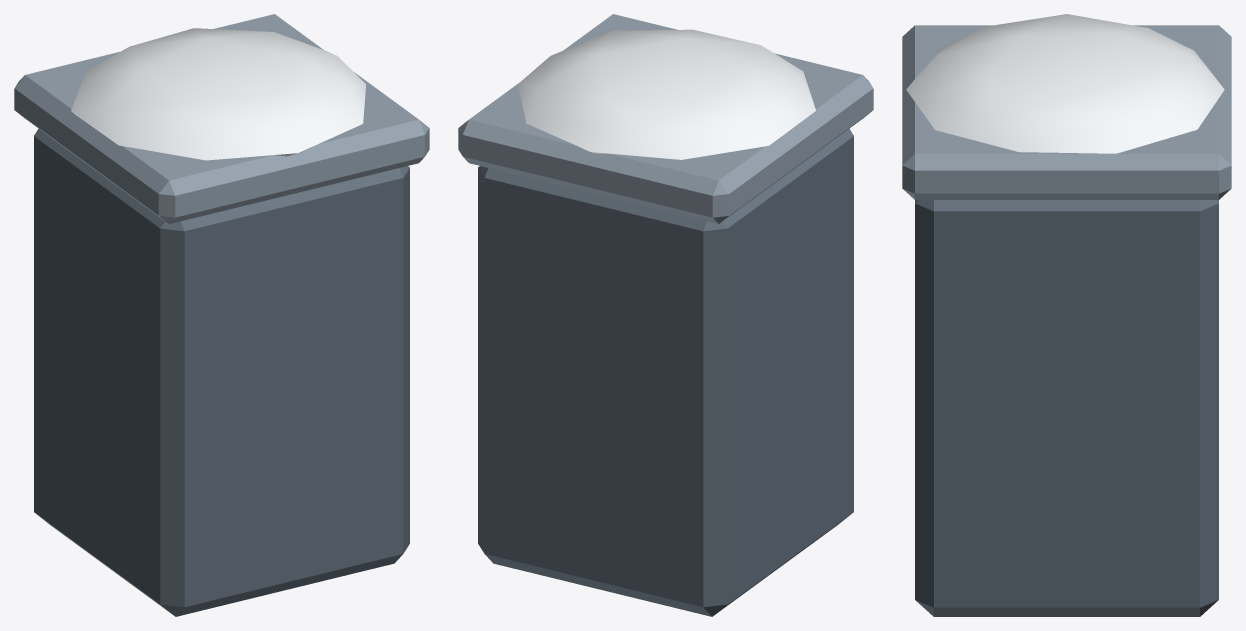
File: WallCorner_Ridge.fbx
The picture shows the model from 3 angles, left to right: view 1: azimuth 30°, elevation 25°; view 2: azimuth 150°, elevation 25°; view 3: azimuth 270°, elevation 25°; orthographic projection. The views are drawn at different scales.
Visible parts, largest first — view 1: WallCorner_Ridge; view 2: WallCorner_Ridge; view 3: WallCorner_Ridge.
Boxes of the visible parts, x1=… form: WallCorner_Ridge: x1=14, y1=14, x2=429, y2=616; WallCorner_Ridge: x1=458, y1=14, x2=873, y2=616; WallCorner_Ridge: x1=902, y1=14, x2=1231, y2=616.
Size of the model in its own units: 1.04 by 1.75 by 1.04.
